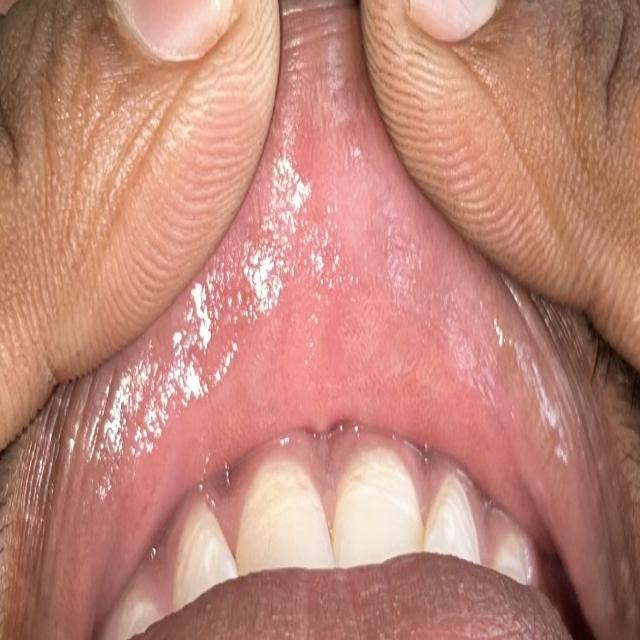processing_area: (24, 60, 607, 638)
